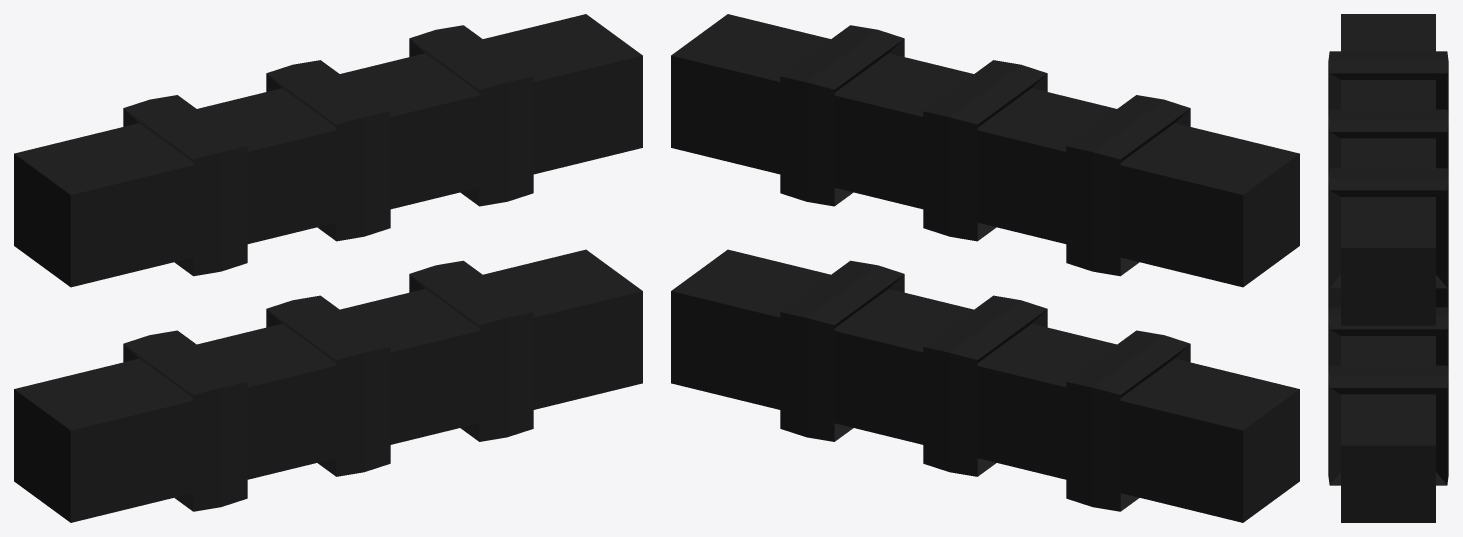
Rendered from IronBars_01.fbx.
The picture shows the model from 3 angles, left to right: view 1: azimuth 30°, elevation 25°; view 2: azimuth 150°, elevation 25°; view 3: azimuth 270°, elevation 25°; orthographic projection. The views are drawn at different scales.
Visible parts, largest first — view 1: IronBars_01; view 2: IronBars_01; view 3: IronBars_01.
Boxes of the visible parts, x1,y1,x2,y2 form: IronBars_01: (14, 14, 642, 522); IronBars_01: (671, 14, 1299, 522); IronBars_01: (1328, 14, 1448, 522).
Bounding box in the file's own units: 551 × 327 × 120.
